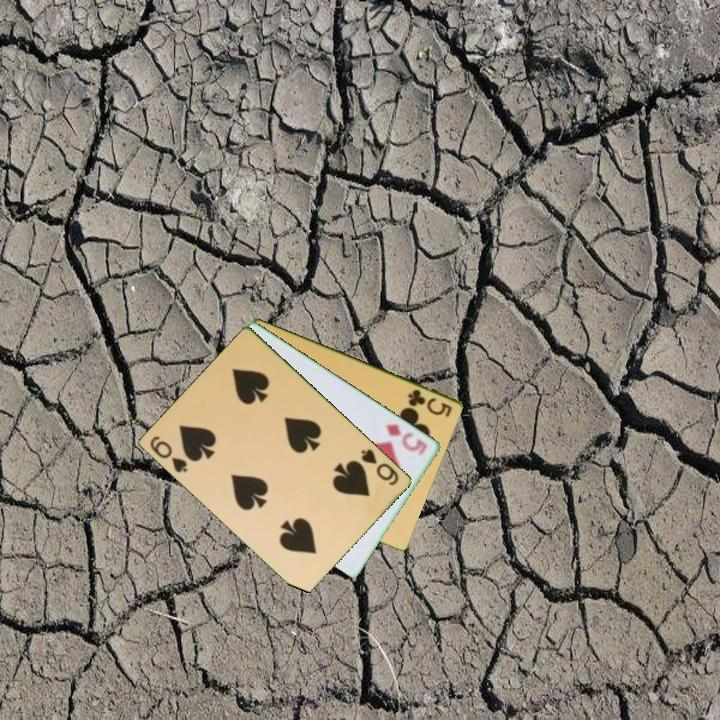5c: (405, 385, 455, 420)
5d: (382, 420, 431, 458)
6s: (147, 432, 191, 476), (358, 445, 402, 488)
